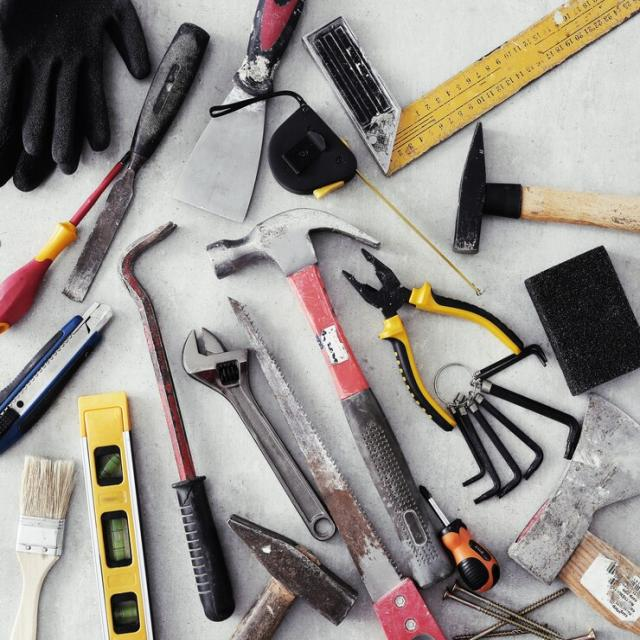Screwdriver: (0, 152, 130, 332), (421, 485, 500, 591)
